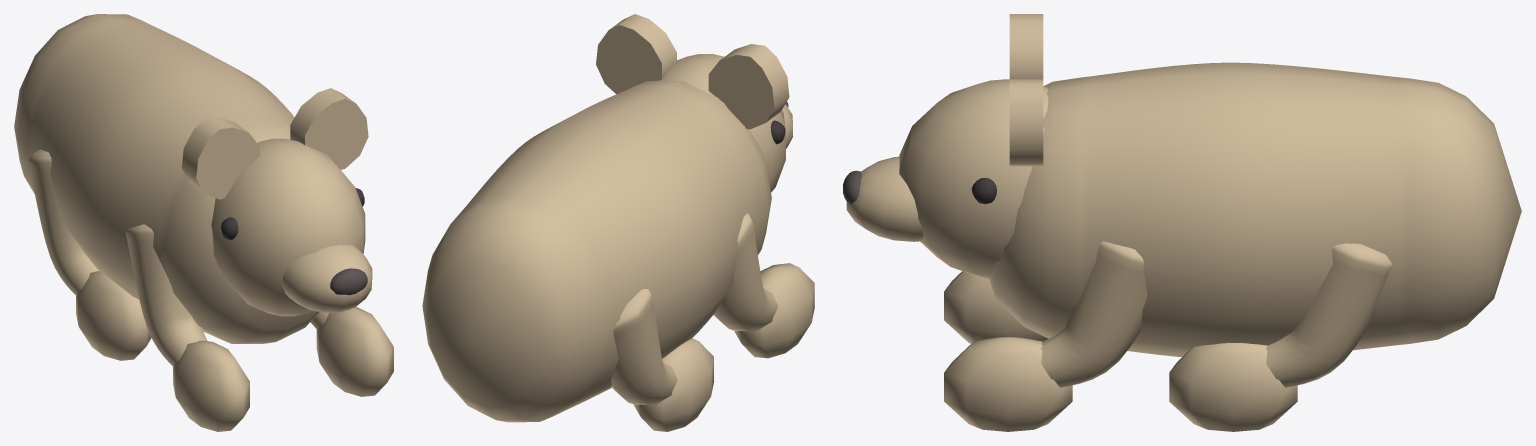
Rendered from polar-tundra-and-alpine-fauna-lemming-0b570d88__6061.glb.
The picture shows the model from 3 angles, left to right: view 1: azimuth 30°, elevation 25°; view 2: azimuth 150°, elevation 25°; view 3: azimuth 270°, elevation 25°; orthographic projection. The views are drawn at different scales.
Visible parts, largest first — view 1: lemming; view 2: lemming; view 3: lemming.
Part boxes in pixels (x1,y1,x2,y2): lemming: (14, 14, 393, 431); lemming: (422, 14, 814, 431); lemming: (843, 14, 1521, 431).
Size of the model in its own units: 0.18 by 0.2469 by 0.4451.
